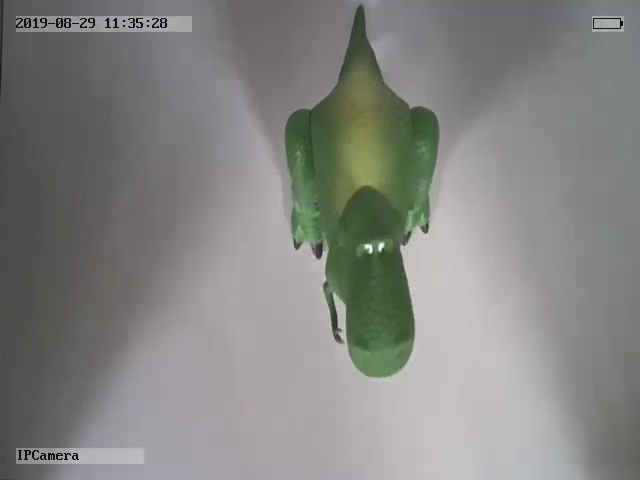rex: (281, 3, 442, 378)
